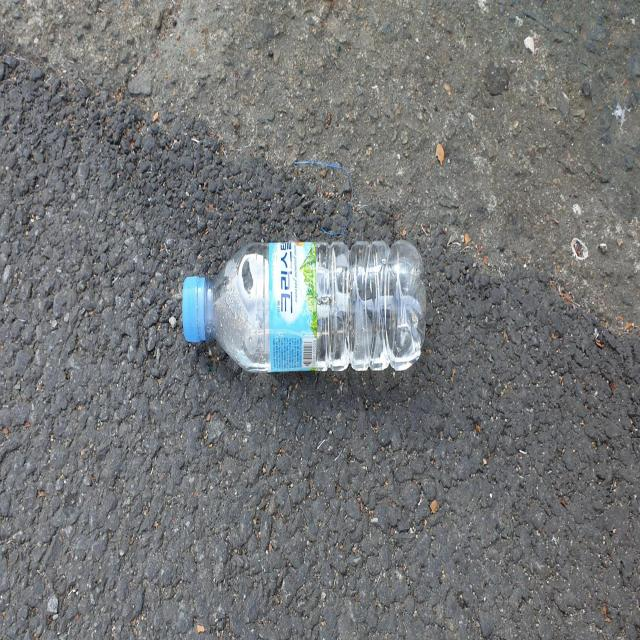plastic: (182, 239, 427, 371)
